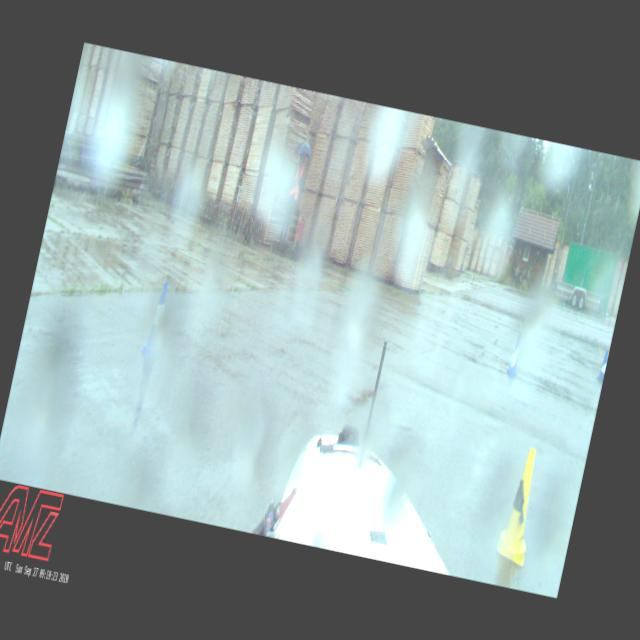blue_cone: (140, 280, 172, 358), (506, 332, 523, 375), (595, 347, 609, 384)
yellow_cone: (494, 446, 548, 566)
